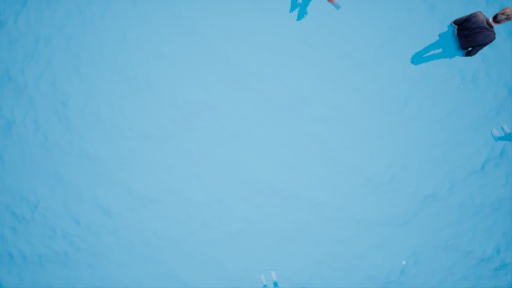person: (410, 3, 512, 71), (287, 1, 345, 28)
